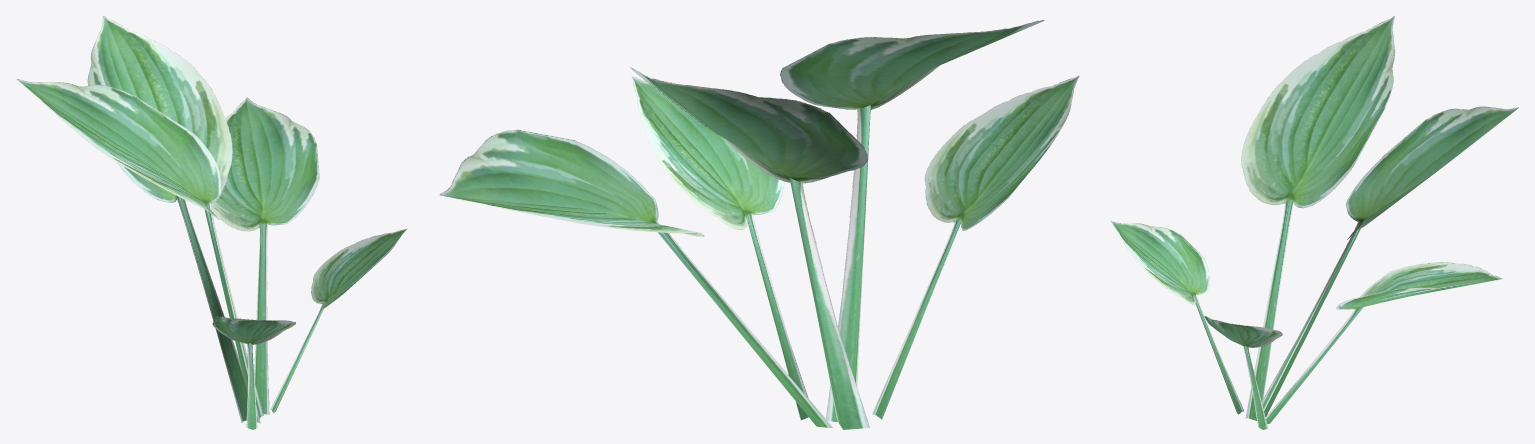
The model's file is plant_small_wg_03Z.fbx.
The picture shows the model from 3 angles, left to right: view 1: azimuth 30°, elevation 25°; view 2: azimuth 150°, elevation 25°; view 3: azimuth 270°, elevation 25°; orthographic projection. The views are drawn at different scales.
Visible parts, largest first — view 1: plant_small_wg_03Z; view 2: plant_small_wg_03Z; view 3: plant_small_wg_03Z.
Part boxes in pixels (x1,y1,x2,y2): plant_small_wg_03Z: (16,16,407,429); plant_small_wg_03Z: (439,20,1079,429); plant_small_wg_03Z: (1110,16,1518,429).
Bounding box in the file's own units: 45.02 × 45.74 × 52.71.
